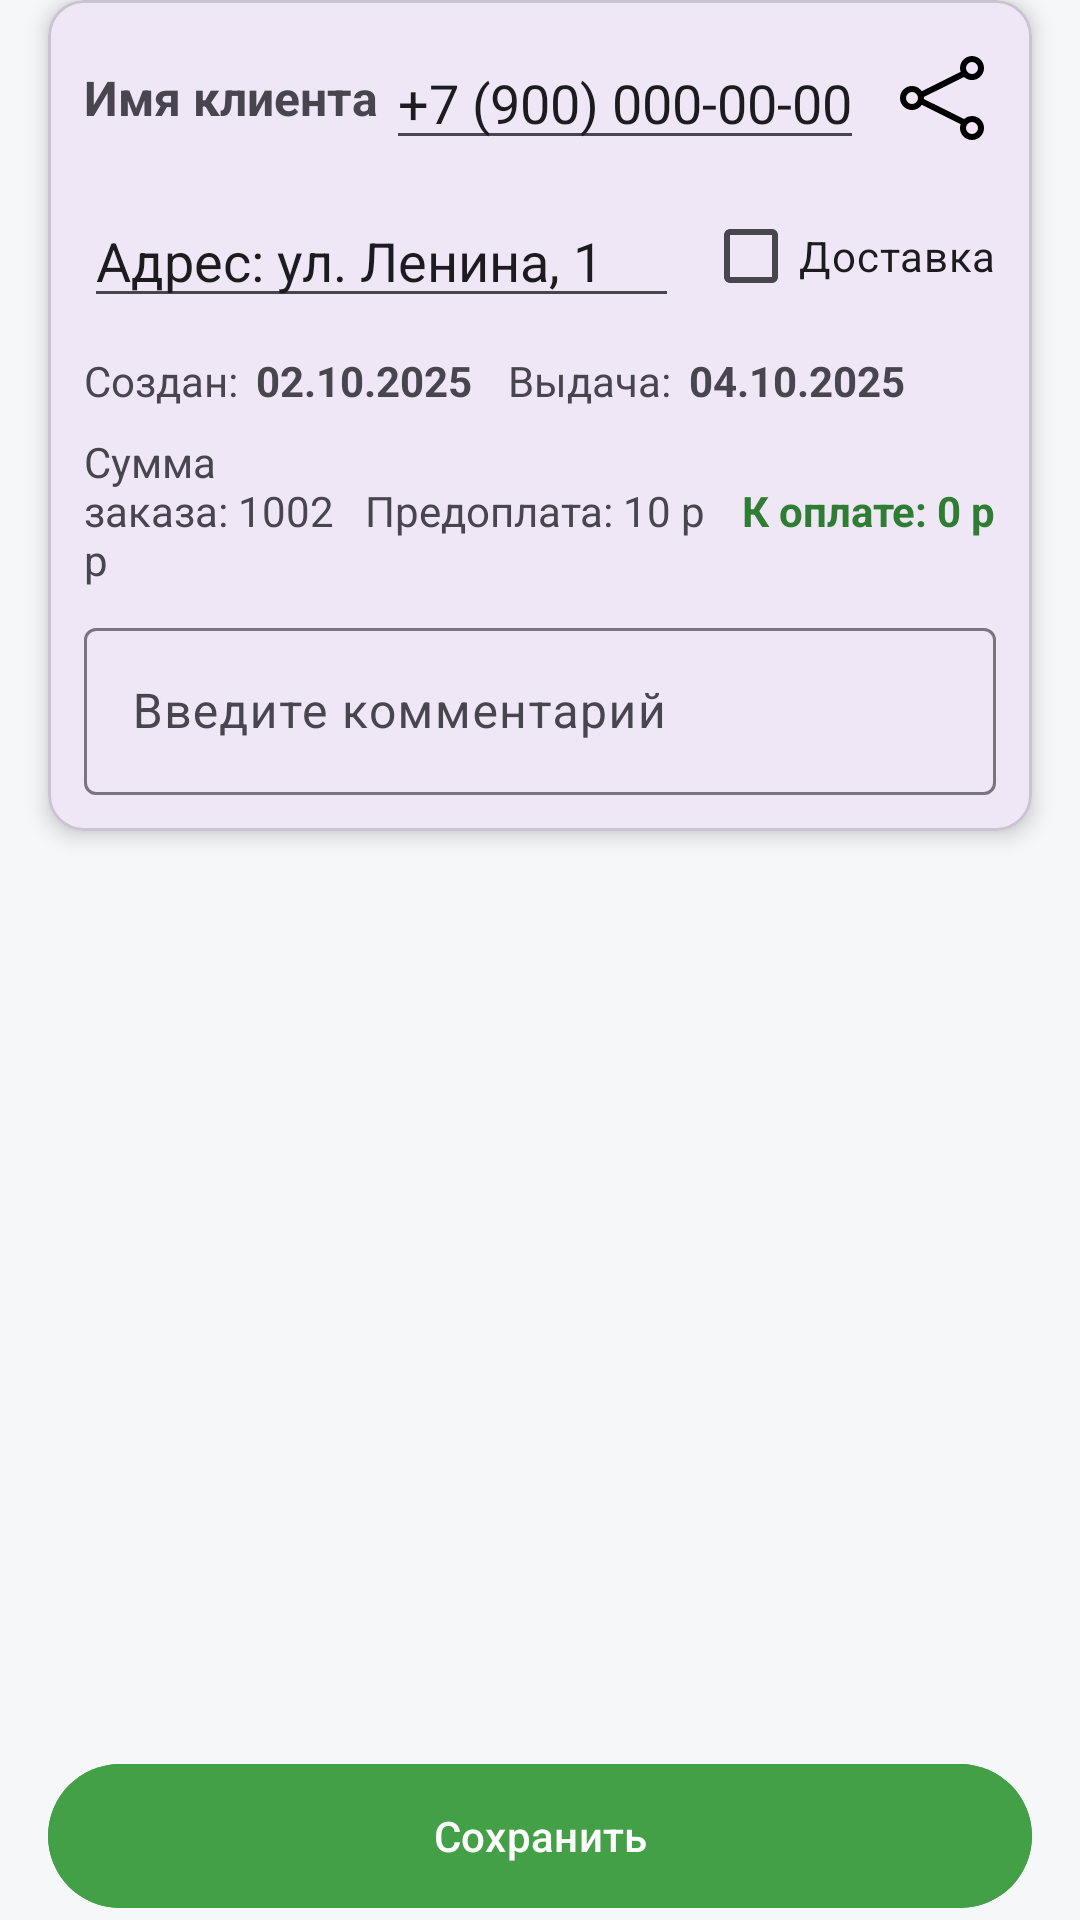

Locate icon controls on the screen. Image size 1080x1920, boxes as (x1, y1, x2, y2).
Поделиться: (900, 56, 984, 140)
